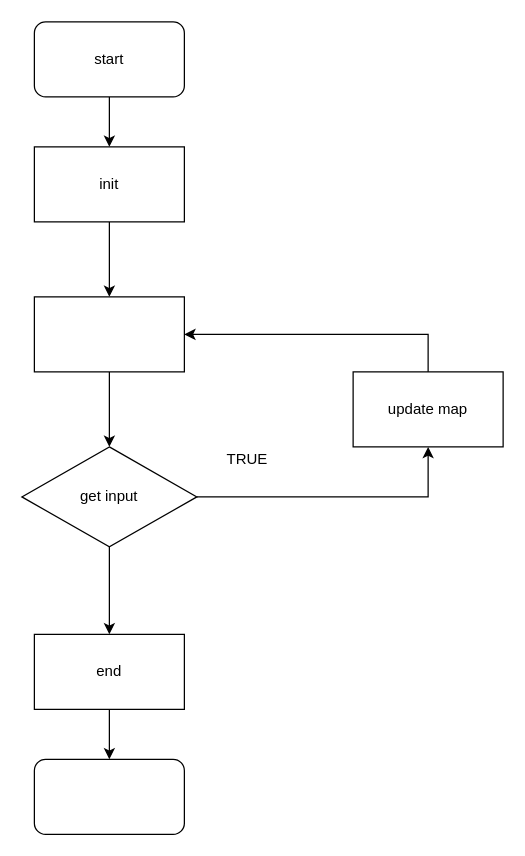
This 525x856 diagram has some shape labels left out. Each missing label, with the box of its shape:
over: (33, 758, 184, 834)
show map: (33, 296, 184, 372)
